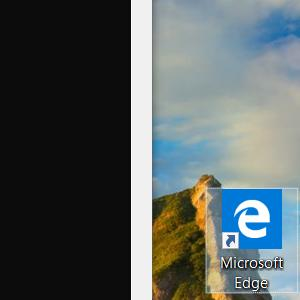edge: (221, 188, 282, 250)
